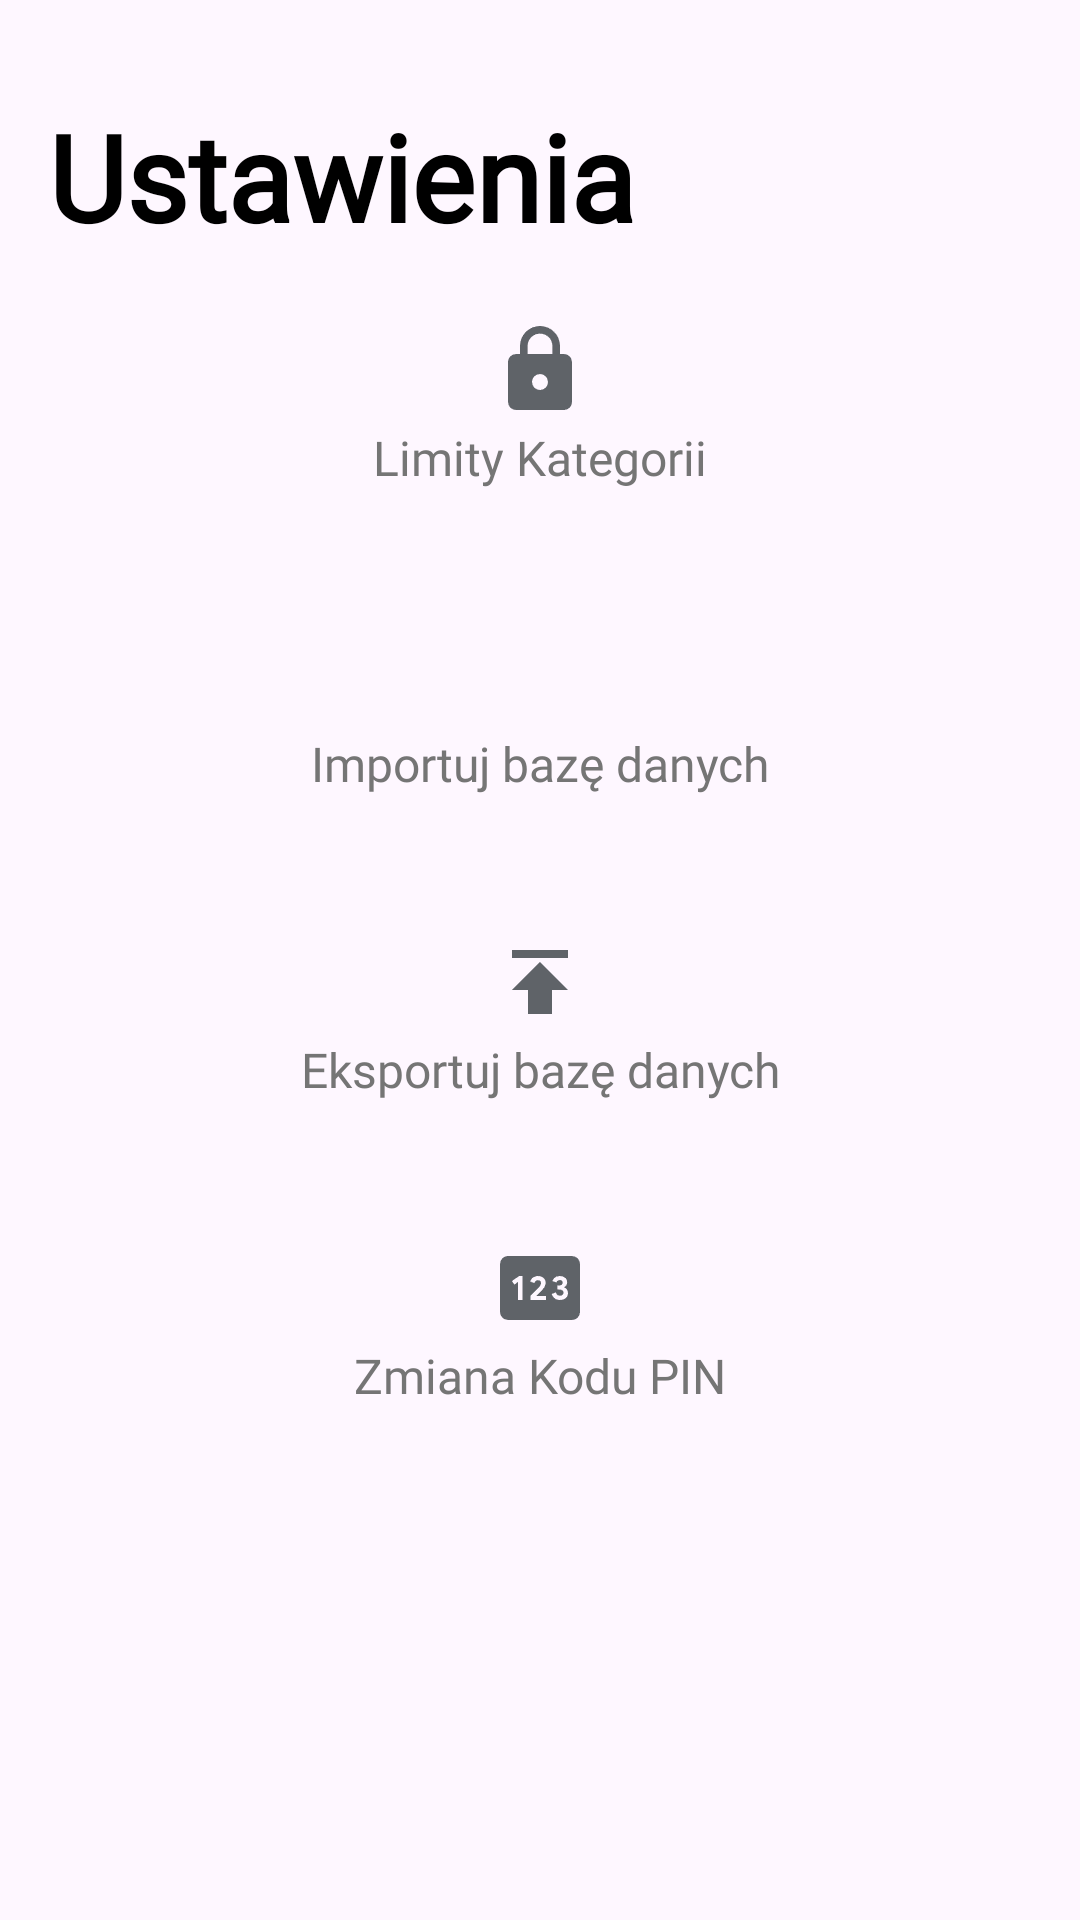

Icons on this 1080w x 1920h Android screen, each with its box as rect(x1, y1, x2, y2):
export: rect(512, 950, 568, 1014)
